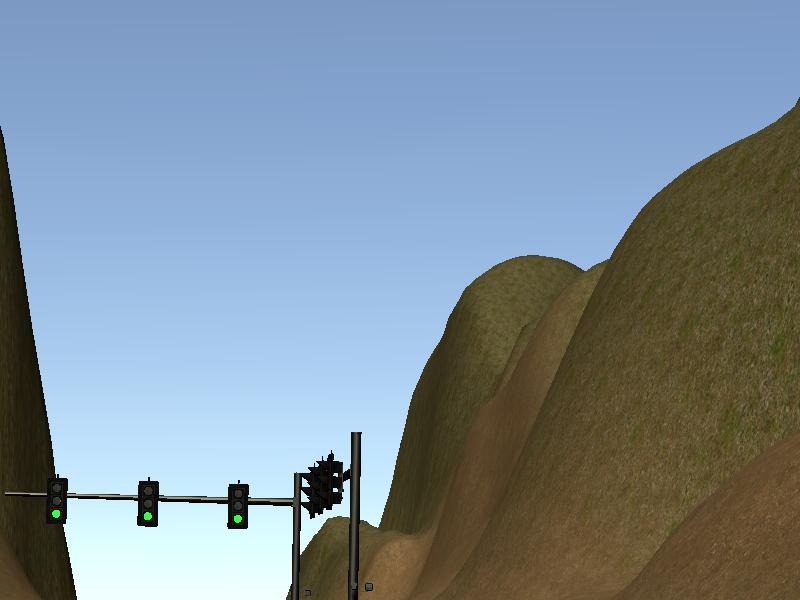Green: (45, 479, 67, 523), (227, 485, 247, 530), (140, 480, 158, 526)
